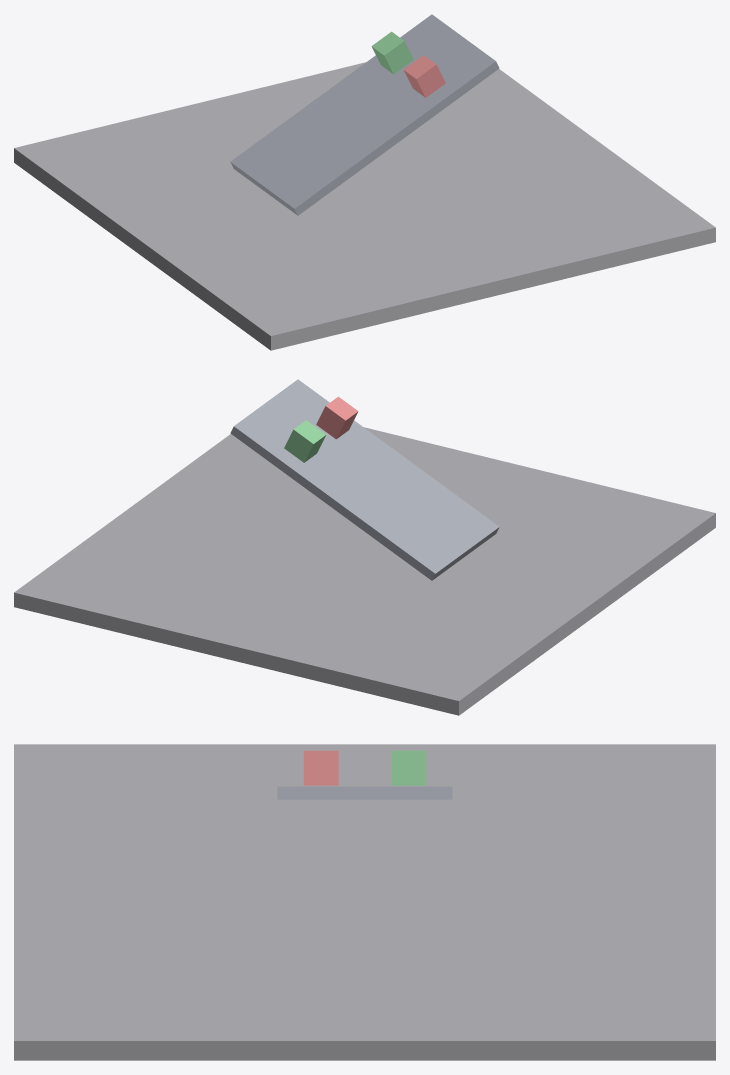
File: FrictionRampDemo.gltf
3 views of the same model, one above another, from view 1: azimuth 30°, elevation 25°; view 2: azimuth 150°, elevation 25°; view 3: azimuth 270°, elevation 25° (orthographic). The views are drawn at different scales.
Parts seen in each view (by area): view 1: Floor, Ramp, StickyBox, SlipperyBox; view 2: Floor, Ramp, SlipperyBox, StickyBox; view 3: Floor, Ramp, StickyBox, SlipperyBox.
Boxes of the visible parts, bbox=[...] form: Floor: bbox=[14, 62, 715, 350]; Ramp: bbox=[230, 14, 499, 215]; StickyBox: bbox=[371, 31, 413, 74]; SlipperyBox: bbox=[404, 55, 445, 97]; Floor: bbox=[14, 427, 715, 715]; Ramp: bbox=[230, 379, 499, 580]; SlipperyBox: bbox=[316, 396, 358, 439]; StickyBox: bbox=[284, 420, 325, 462]; Floor: bbox=[14, 744, 715, 1060]; Ramp: bbox=[277, 786, 452, 799]; StickyBox: bbox=[391, 750, 426, 785]; SlipperyBox: bbox=[303, 750, 338, 785].
Bounding box in the file's own units: 16 × 4.89 × 16.
